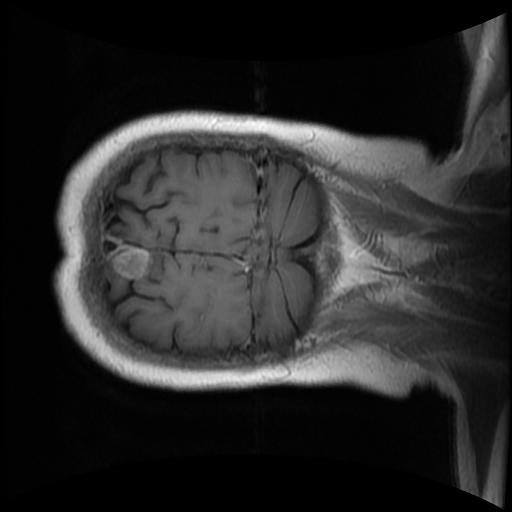meningioma: (112, 246, 151, 280)
